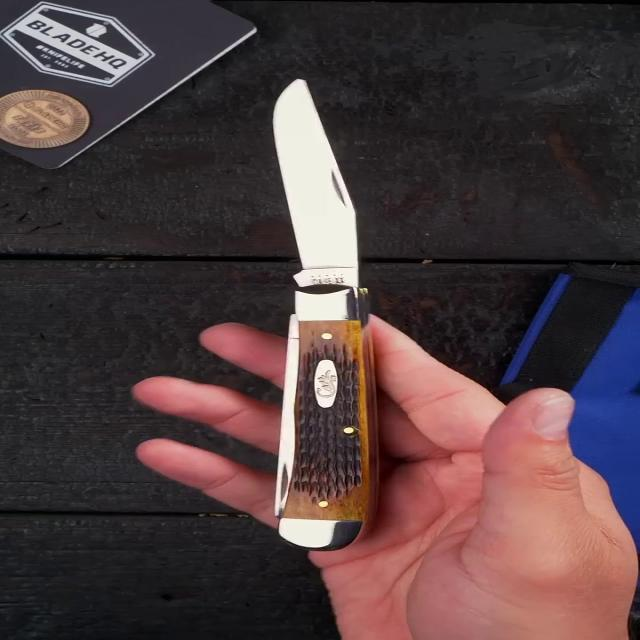Knife: (244, 64, 396, 562)
